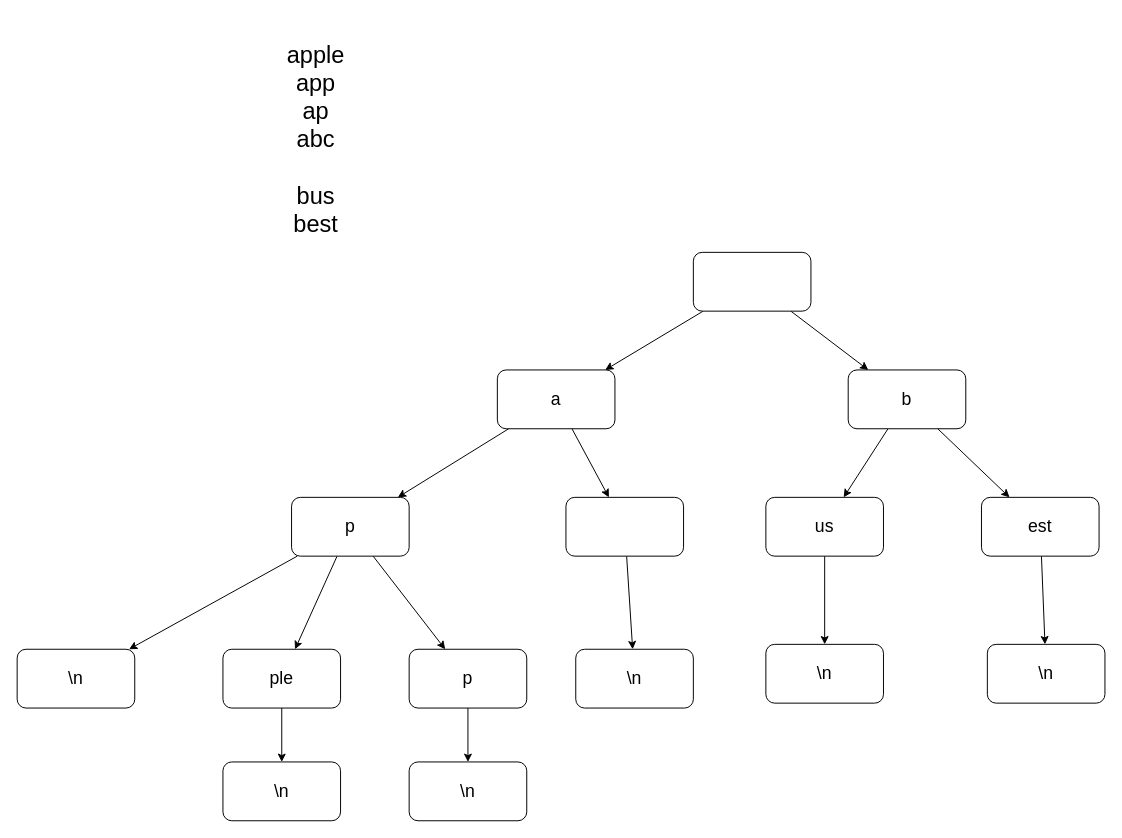
Image size: 1122x838. Some labels were removed from this diagram. Here are the shapes that lost their labels. From the top down, the box of each, then its label:
(692, 251, 811, 311): root
(565, 496, 684, 556): bc
